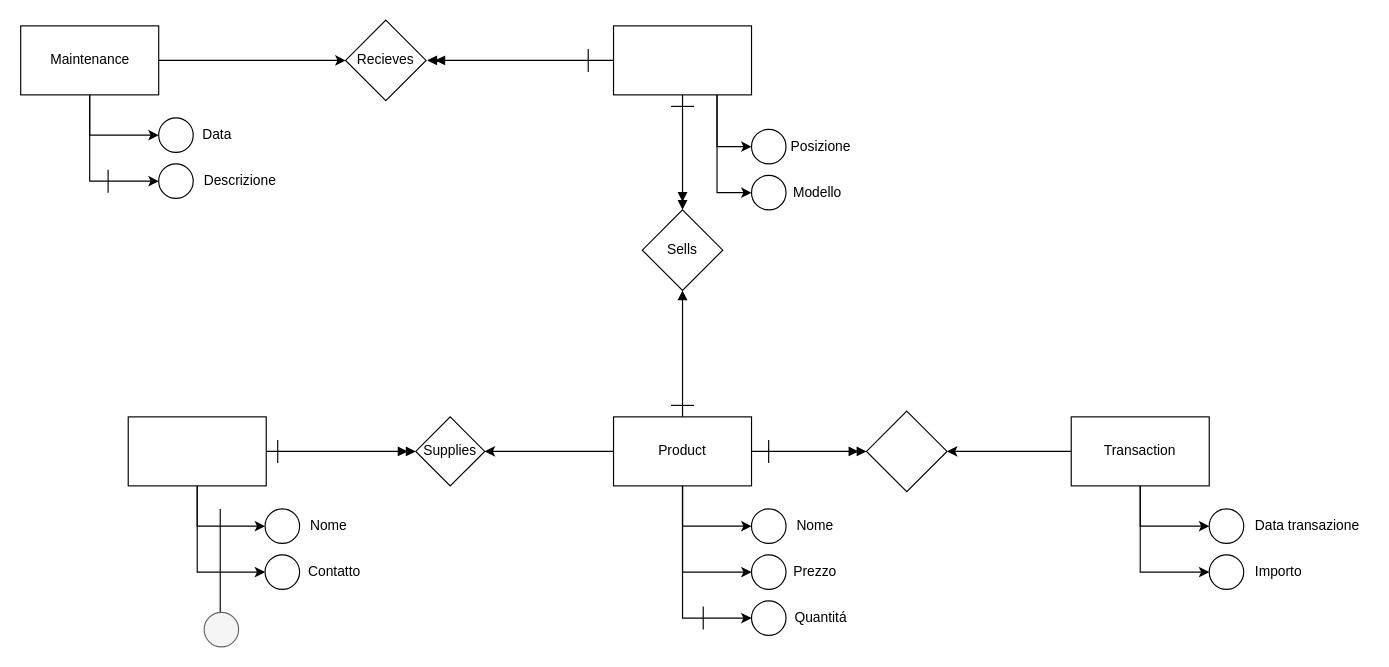
This 1389x667 diagram has some shape labels left out. Here are the shapes that lost their labels. From the top down, the centre of each, then its label:
At pixel 682 60: "Vending Machine".
At pixel 196 451: "Supplier".
At pixel 906 451: "Creates".
